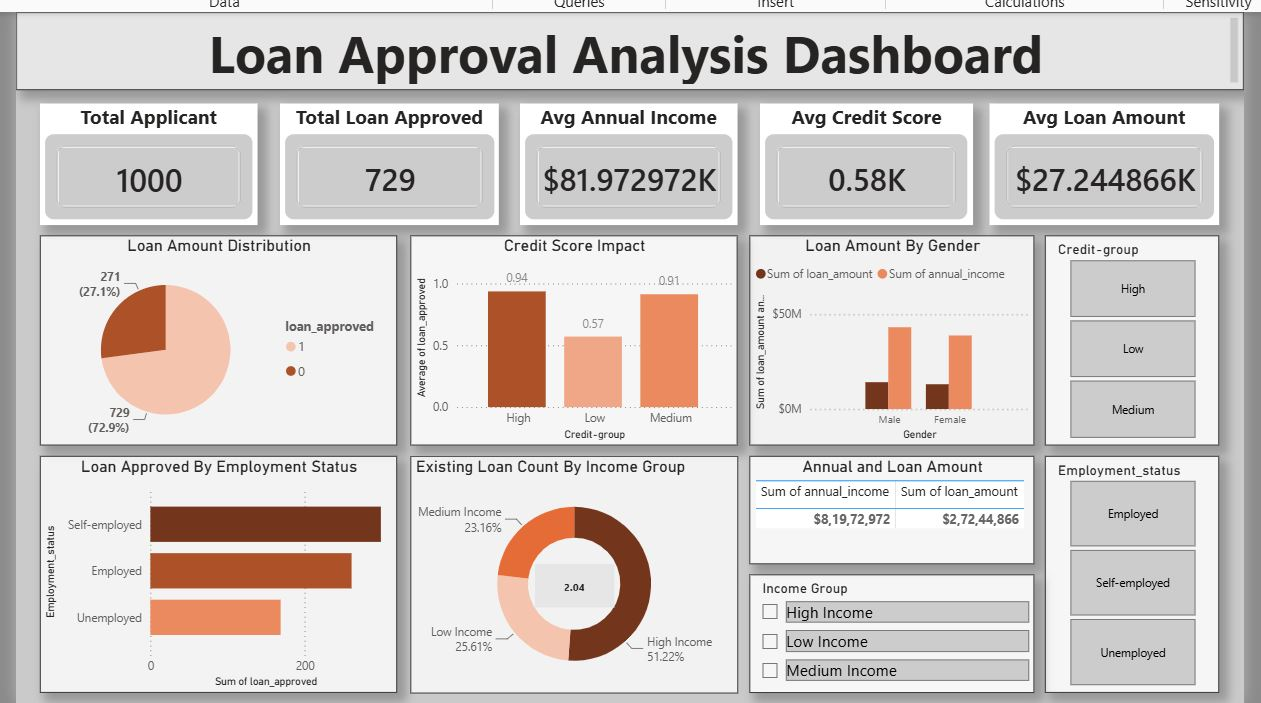

The dashboard page shown, as its layout file describes it:
{"tool":"powerbi","page":{"name":"Page 1","canvas":[1280,720],"ordinal":0},"visuals":[{"type":"textbox","box":[0,0,1279.4,81.3],"z":0},{"type":"donutChart","title":"Existing Loan Count By Income Group","fields":{"Category":["loanapproval.Income Group"],"Y":["Sum(loanapproval.existing_loans_count)"]},"box":[411,463,341,247],"z":0,"group":"g1"},{"type":"cardVisual","title":"Total Applicant","fields":{"Data":["CountNonNull(loanapproval.applicant_id)"]},"box":[25,95.3,226.6,126.6],"z":1000},{"type":"cardVisual","fields":{"Data":["Avg(loanapproval.existing_loans_count)"]},"box":[540.8,575.2,82.8,45.3],"z":1000,"group":"g1"},{"type":"cardVisual","title":"Avg Credit Score","fields":{"Data":["Avg(loanapproval.credit_score)"]},"box":[775.2,95.3,221.9,126.6],"z":2000},{"type":"cardVisual","title":"Total Loan Approved","fields":{"Data":["Sum(loanapproval.loan_approved)"]},"box":[275.1,95.3,228.2,126.6],"z":3000},{"type":"cardVisual","title":"Avg Loan Amount","fields":{"Data":["Avg(loanapproval.loan_amount)"]},"box":[1014.4,95.3,239.1,126.6],"z":4000},{"type":"cardVisual","title":"Avg Annual Income","fields":{"Data":["Avg(loanapproval.annual_income)"]},"box":[525.2,95.3,226.6,126.6],"z":5000},{"type":"pieChart","title":"Loan Amount Distribution","fields":{"Category":["loanapproval.loan_approved"],"Y":["CountNonNull(loanapproval.loan_amount)"]},"box":[25,232.9,372,218.8],"z":6000},{"type":"clusteredColumnChart","title":"Loan Amount By Gender","fields":{"Category":["loanapproval.gender"],"Y":["Sum(loanapproval.loan_amount)","Sum(loanapproval.annual_income)"]},"box":[764.3,232.9,297,218.8],"z":7000},{"type":"clusteredBarChart","title":"Loan Approved By Employment Status","fields":{"Category":["loanapproval.employment_status"],"Y":["Sum(loanapproval.loan_approved)"]},"box":[25,462.6,372,247],"z":8000},{"type":"columnChart","title":"Credit Score Impact ","fields":{"Y":["Avg(loanapproval.loan_approved)"],"Category":["loanapproval.Credit-group"]},"box":[411.1,232.9,340.7,218.8],"z":9000},{"type":"tableEx","title":"Annual and Loan Amount","fields":{"Values":["Sum(loanapproval.annual_income)","Sum(loanapproval.loan_amount)"]},"box":[764.3,462.6,297,112.5],"z":10000},{"type":"slicer","fields":{"Values":["loanapproval.Credit-group"]},"box":[1072.2,232.9,181.3,218.8],"z":11000},{"type":"slicer","fields":{"Values":["loanapproval.employment_status"]},"box":[1072.2,462.6,181.3,247],"z":12000},{"type":"slicer","fields":{"Values":["loanapproval.Income Group"]},"box":[764.3,586.1,297,123.5],"z":13000},{"type":"group","id":"g1","title":"Group 1","box":[411,463,341,247],"z":13001}]}

Visuals, with their boxes in screenshot pixels (x1, y1, x2, y2):
textbox: {"x1": 13, "y1": 7, "x2": 1245, "y2": 85}
"Existing Loan Count By Income Group" donutChart: {"x1": 409, "y1": 452, "x2": 737, "y2": 690}
"Total Applicant" cardVisual: {"x1": 37, "y1": 98, "x2": 255, "y2": 220}
cardVisual - Avg(loanapproval.existing_loans_count): {"x1": 534, "y1": 560, "x2": 613, "y2": 604}
"Avg Credit Score" cardVisual: {"x1": 759, "y1": 98, "x2": 973, "y2": 220}
"Total Loan Approved" cardVisual: {"x1": 278, "y1": 98, "x2": 498, "y2": 220}
"Avg Loan Amount" cardVisual: {"x1": 990, "y1": 98, "x2": 1220, "y2": 220}
"Avg Annual Income" cardVisual: {"x1": 519, "y1": 98, "x2": 737, "y2": 220}
"Loan Amount Distribution" pieChart: {"x1": 37, "y1": 231, "x2": 395, "y2": 441}
"Loan Amount By Gender" clusteredColumnChart: {"x1": 749, "y1": 231, "x2": 1035, "y2": 441}
"Loan Approved By Employment Status" clusteredBarChart: {"x1": 37, "y1": 452, "x2": 395, "y2": 690}
"Credit Score Impact " columnChart: {"x1": 409, "y1": 231, "x2": 737, "y2": 441}
"Annual and Loan Amount" tableEx: {"x1": 749, "y1": 452, "x2": 1035, "y2": 560}
slicer - loanapproval.Credit-group: {"x1": 1045, "y1": 231, "x2": 1220, "y2": 441}
slicer - loanapproval.employment_status: {"x1": 1045, "y1": 452, "x2": 1220, "y2": 690}
slicer - loanapproval.Income Group: {"x1": 749, "y1": 571, "x2": 1035, "y2": 690}
"Group 1" group: {"x1": 409, "y1": 452, "x2": 737, "y2": 690}
